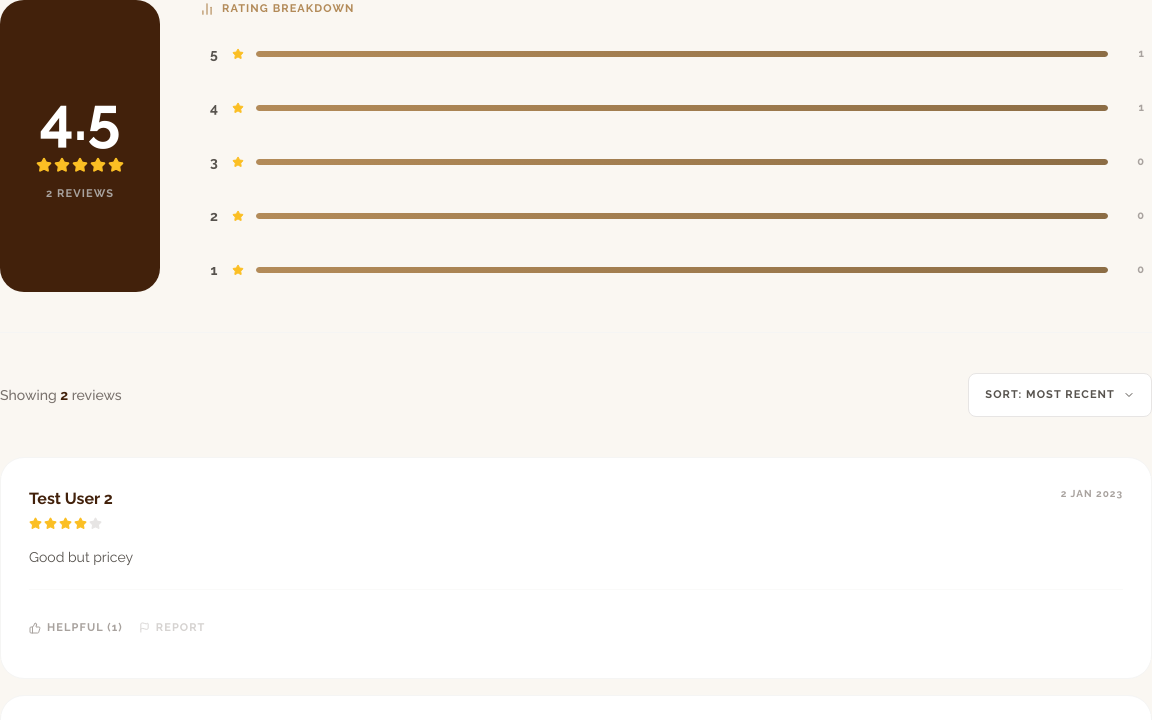
Test: ReviewWidget › sorts reviews
Check: the text "Test User 2" is shown, box x1=29 y1=486 x2=113 y2=511
# Change sort to Helpful
Click the button "Sort: Most Recent" at (1060, 395), box x1=968 y1=373 x2=1151 y2=417
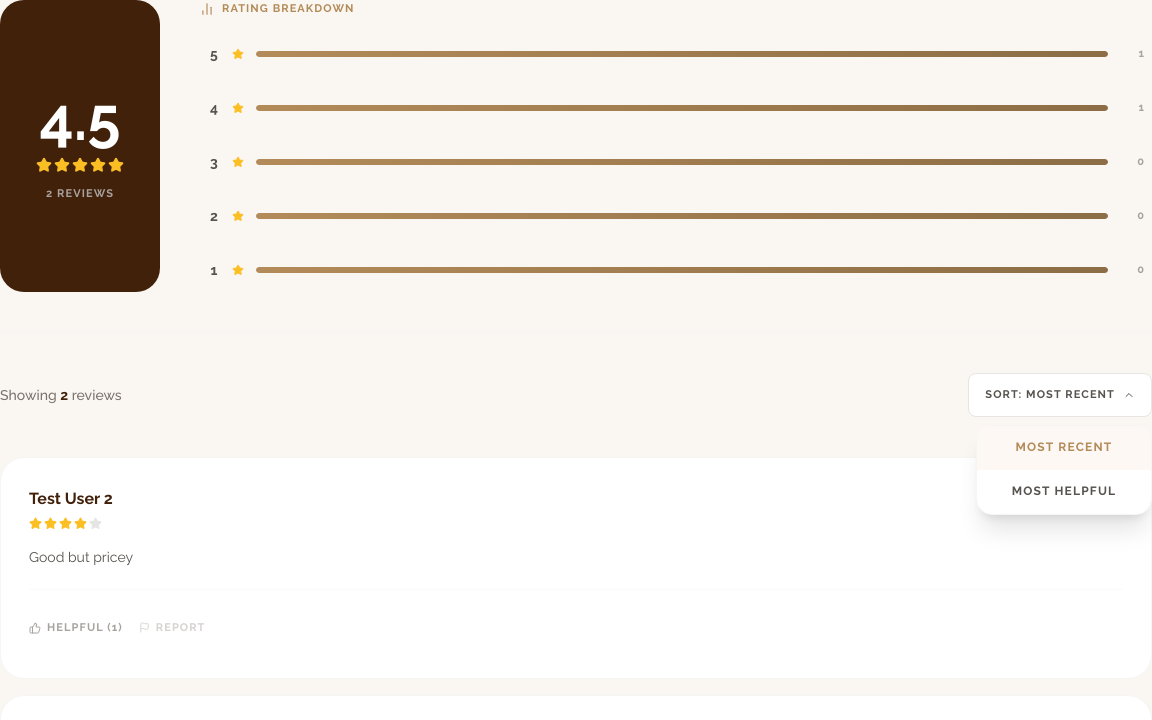
Click the button "Most Helpful" at (1064, 492), box x1=977 y1=470 x2=1151 y2=514
(page scrolled)
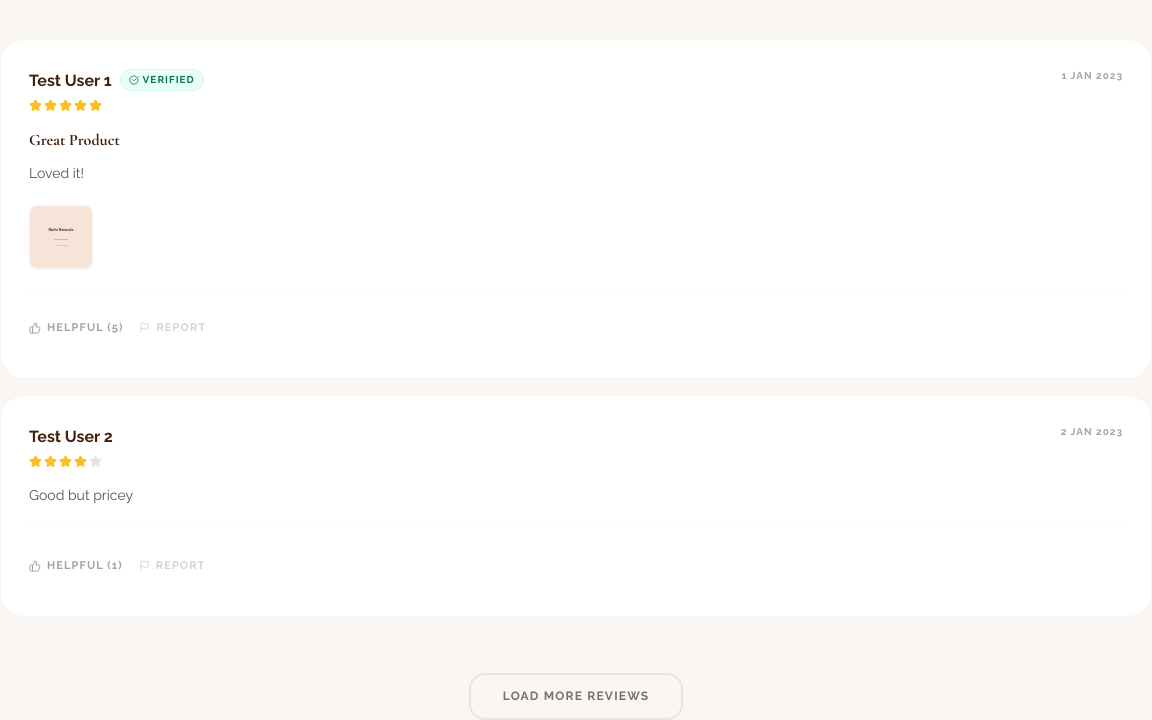
Check: the text "Test User 1" is shown, box x1=29 y1=68 x2=112 y2=93
Check: the text "Test User 2" is shown, box x1=29 y1=424 x2=113 y2=449
